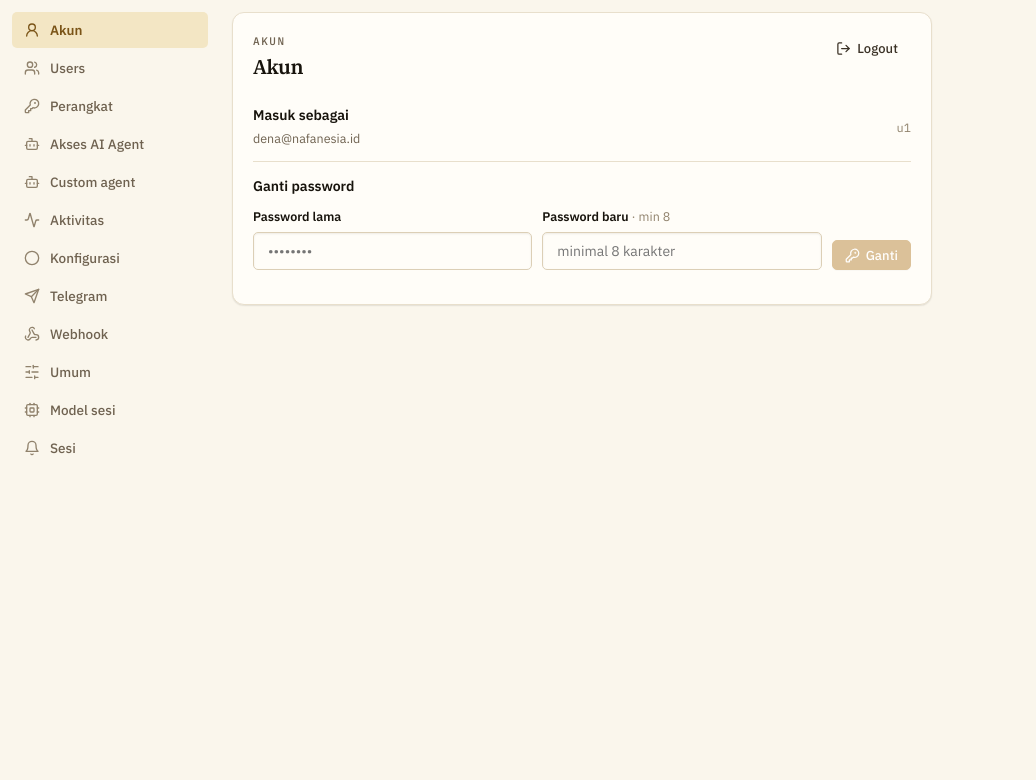
Test case: SPEC-383 · kartu default sesi konflik › mati → tak ada picker, nilai warisan ditampilkan
Click the button "Model sesi".
click(110, 410)  # box [12,392,208,428]
(page scrolled)
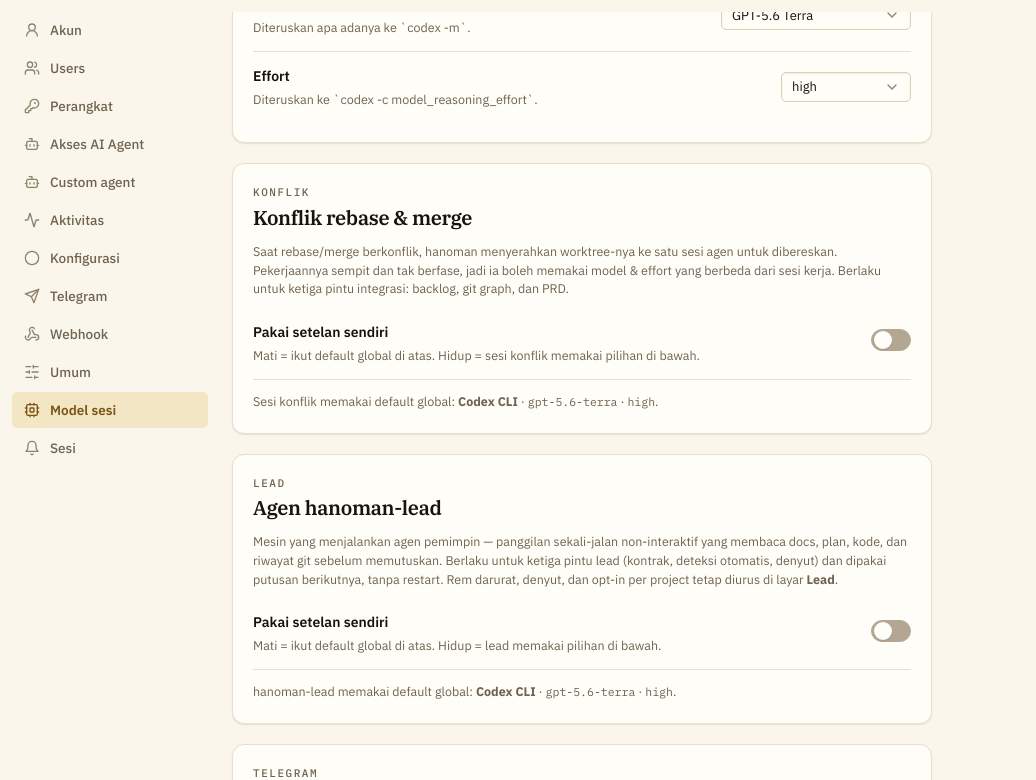
Now the element with test id "conflict-inherited" shows "Codex CLI", box [458,393,518,409]
Now the element with test id "conflict-inherited" shows "gpt-5.6-terra", box [528,394,618,409]
Now the element with test id "conflict-inherited" shows "high", box [628,394,655,409]
